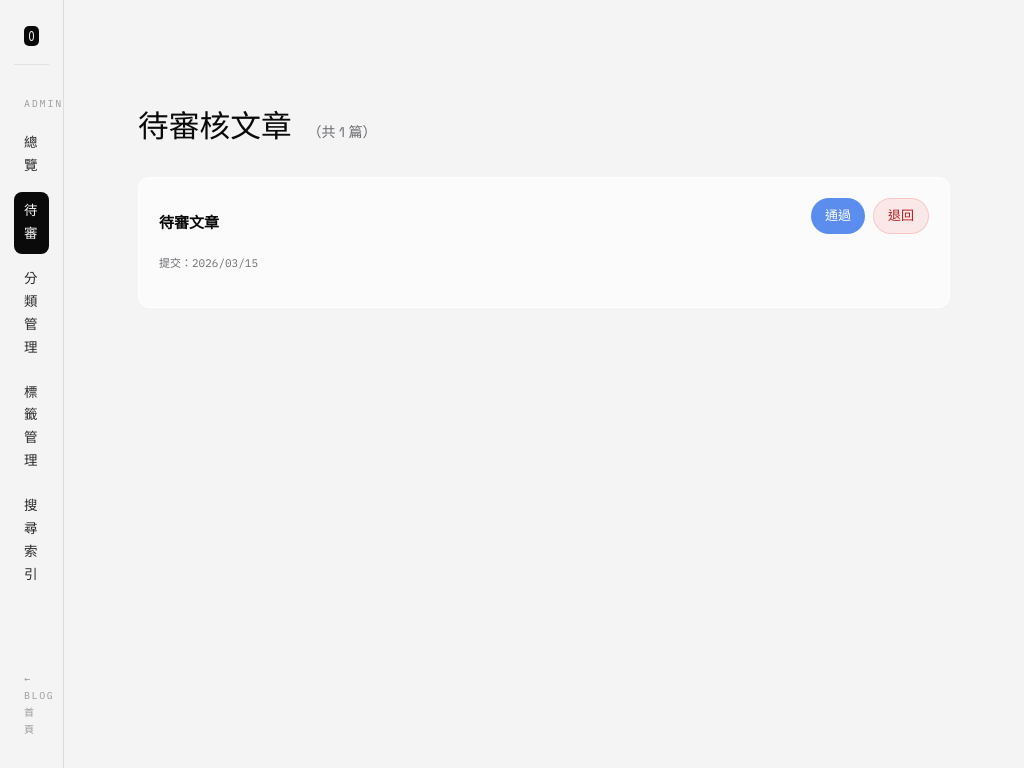
Test: AdminReviewView › 退回操作 › rejectArticle 成功後從列表移除
This screenshot has width=1024, height=768.
Click the button "退回": [901, 216] box [873,198,929,234]
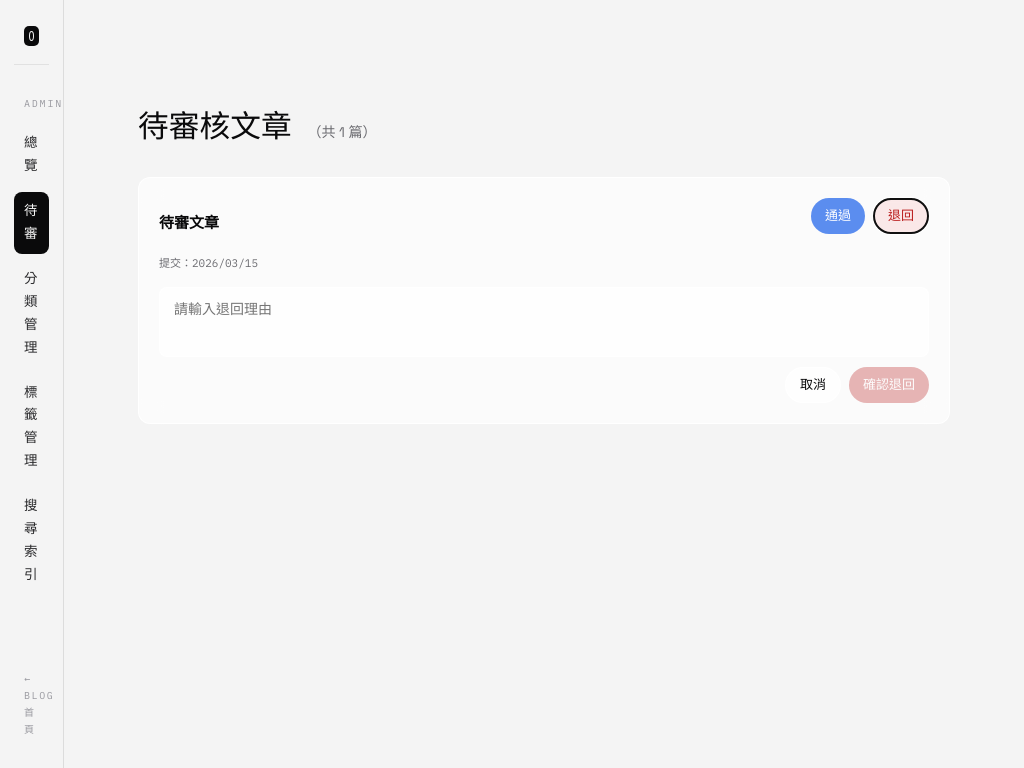
In the text box with placeholder "請輸入退回理由": [544, 322] box [159,287,929,357], type "需要修改"
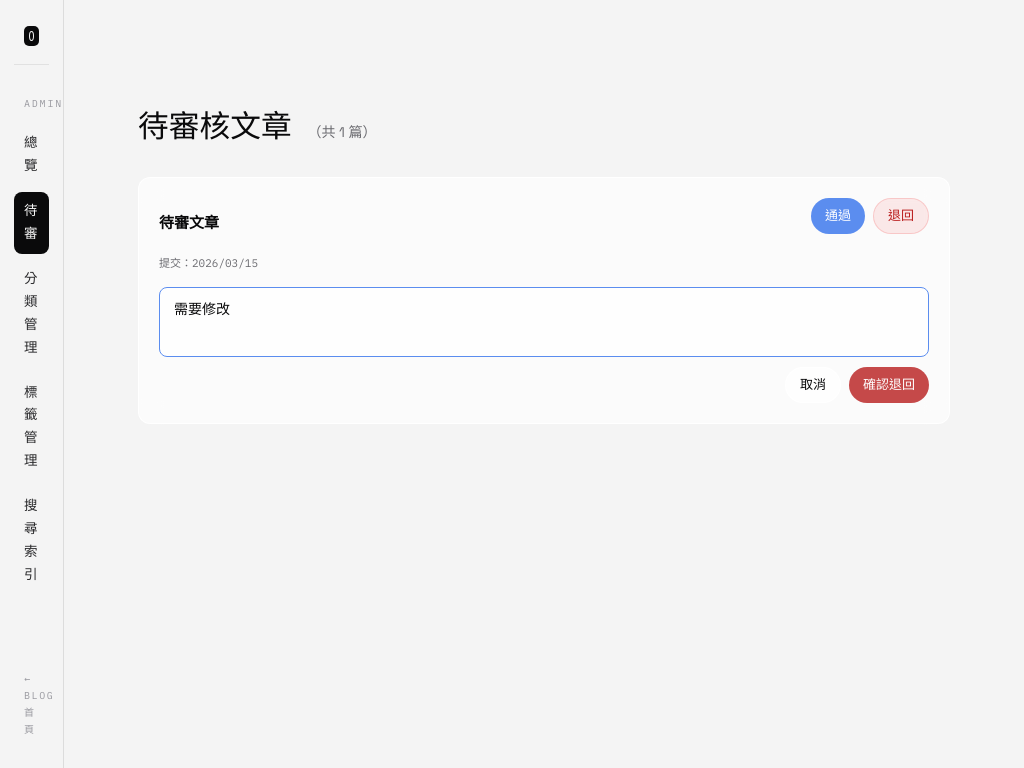
Click the button "確認退回": [889, 385] box [849,367,929,404]
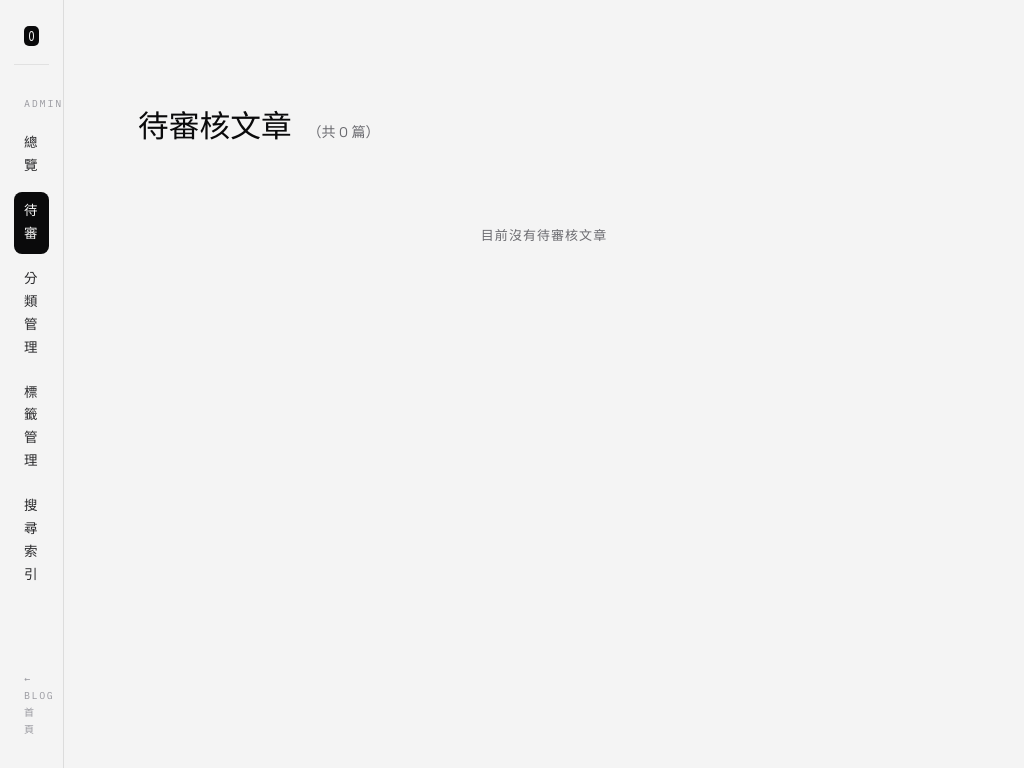
Check: the heading "待審文章" is gone
